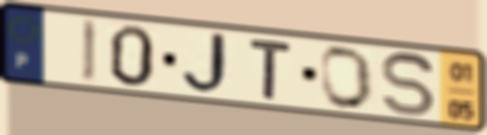0: (107, 23, 159, 90)
I: (79, 16, 100, 86)
J: (179, 30, 235, 97)
O: (319, 44, 377, 112)
S: (379, 50, 439, 120)
T: (246, 36, 295, 103)
